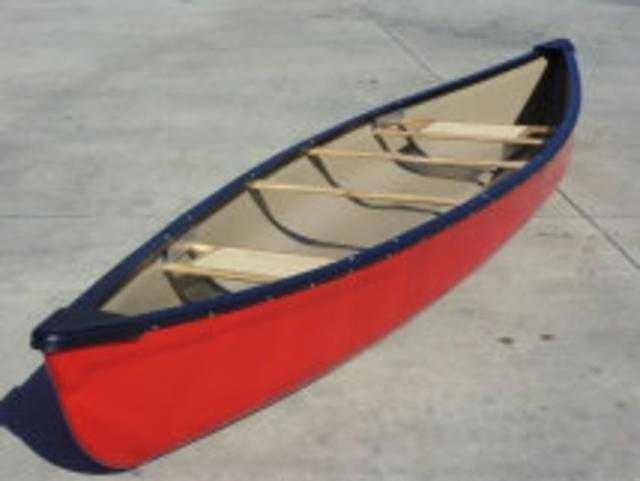kayak: (28, 42, 580, 471)
